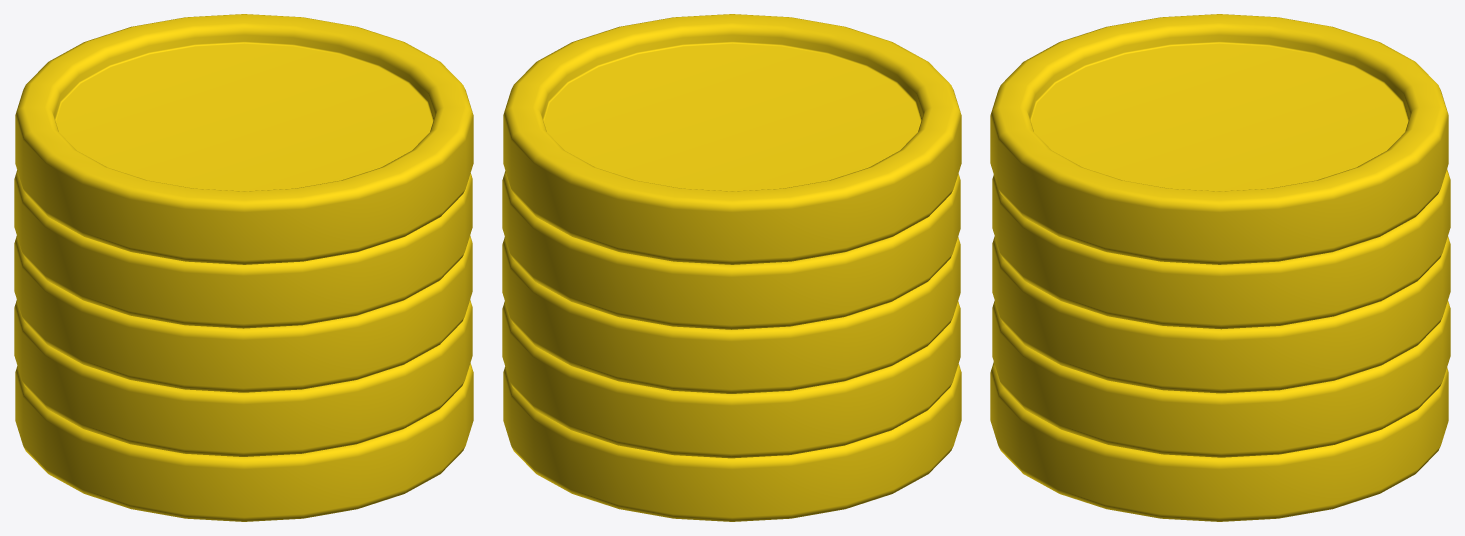
The model's file is Public_1_Stack_of_Coins_7.glb.
The picture shows the model from 3 angles, left to right: view 1: azimuth 30°, elevation 25°; view 2: azimuth 150°, elevation 25°; view 3: azimuth 270°, elevation 25°; orthographic projection.
Visible parts, largest first — view 1: Public_1_Stack_of_Coins_7; view 2: Public_1_Stack_of_Coins_7; view 3: Public_1_Stack_of_Coins_7.
Part boxes in pixels (left/top/right/bottom): Public_1_Stack_of_Coins_7: left=14, top=14, right=473, bottom=521; Public_1_Stack_of_Coins_7: left=502, top=14, right=961, bottom=521; Public_1_Stack_of_Coins_7: left=990, top=14, right=1450, bottom=521.
Bounding box in the file's own units: 1.11 × 0.8596 × 1.12.
Materials: 1 (1 with a texture image).
